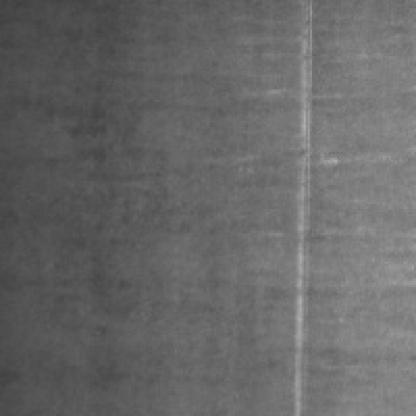scratches: (287, 0, 314, 412)
